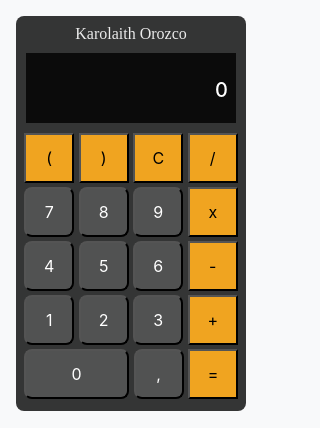
test the calculator operation › write x + y
The width and height of the screenshot is (320, 428).
Step 1. Click the button with id "btn8" → coordinates (104, 212), box [79,187,129,237]
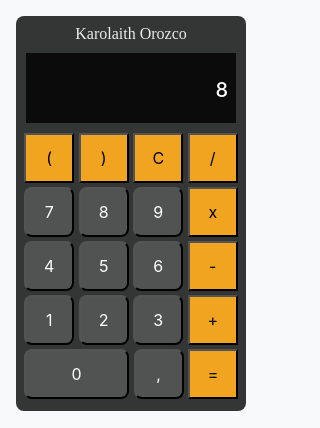
Step 2. Click the button with id "btn2" → coordinates (104, 320), box [79,295,129,345]
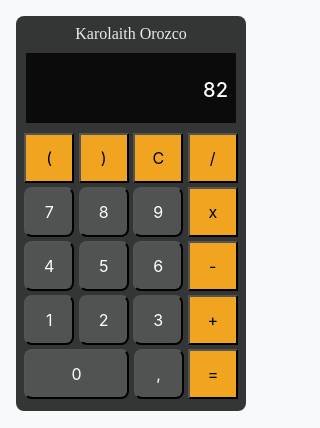
Step 3. Click the button with id "btnSum" → coordinates (213, 320), box [188,295,238,345]
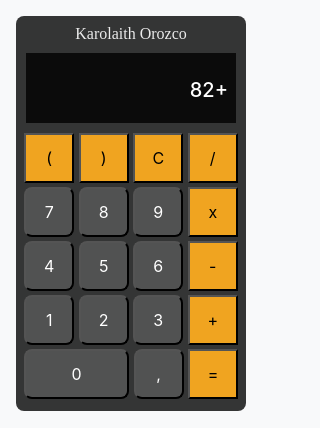
Step 4. Click the button with id "btn9" → coordinates (158, 212), box [133,187,183,237]
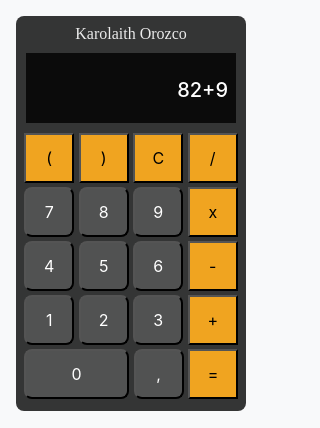
Step 5. Click the button with id "btnEql" → coordinates (213, 374), box [188,349,238,399]
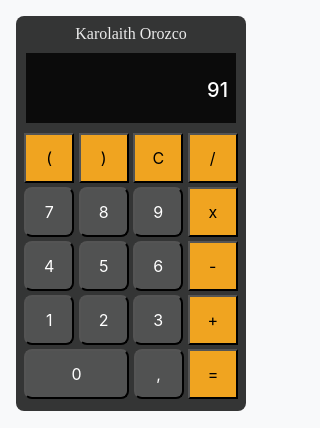
Check: the heading with id "textview" reads "91", box [207,78,228,102]
